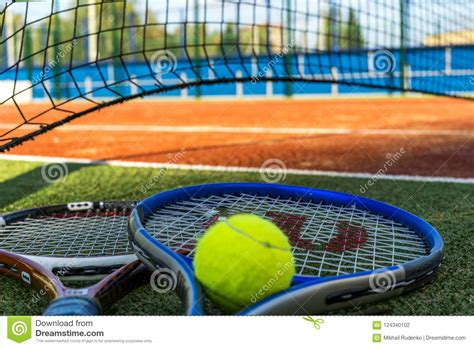tennis_ball: (192, 212, 294, 310)
